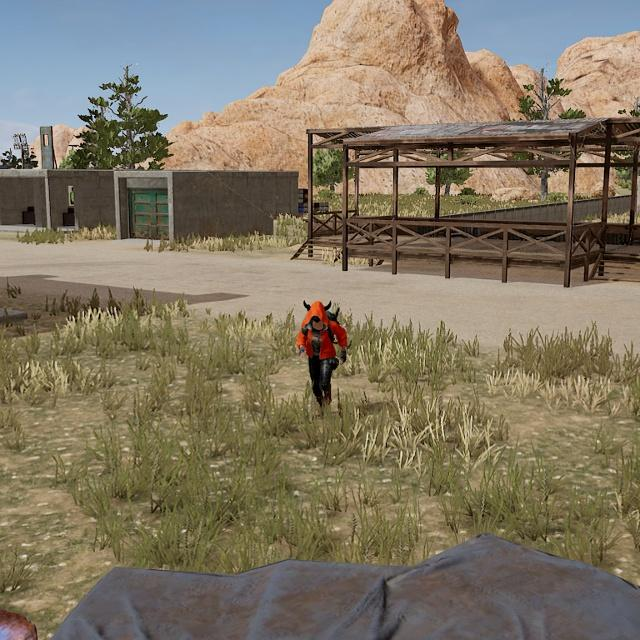head: (304, 301, 330, 329)
people: (290, 297, 352, 415)
